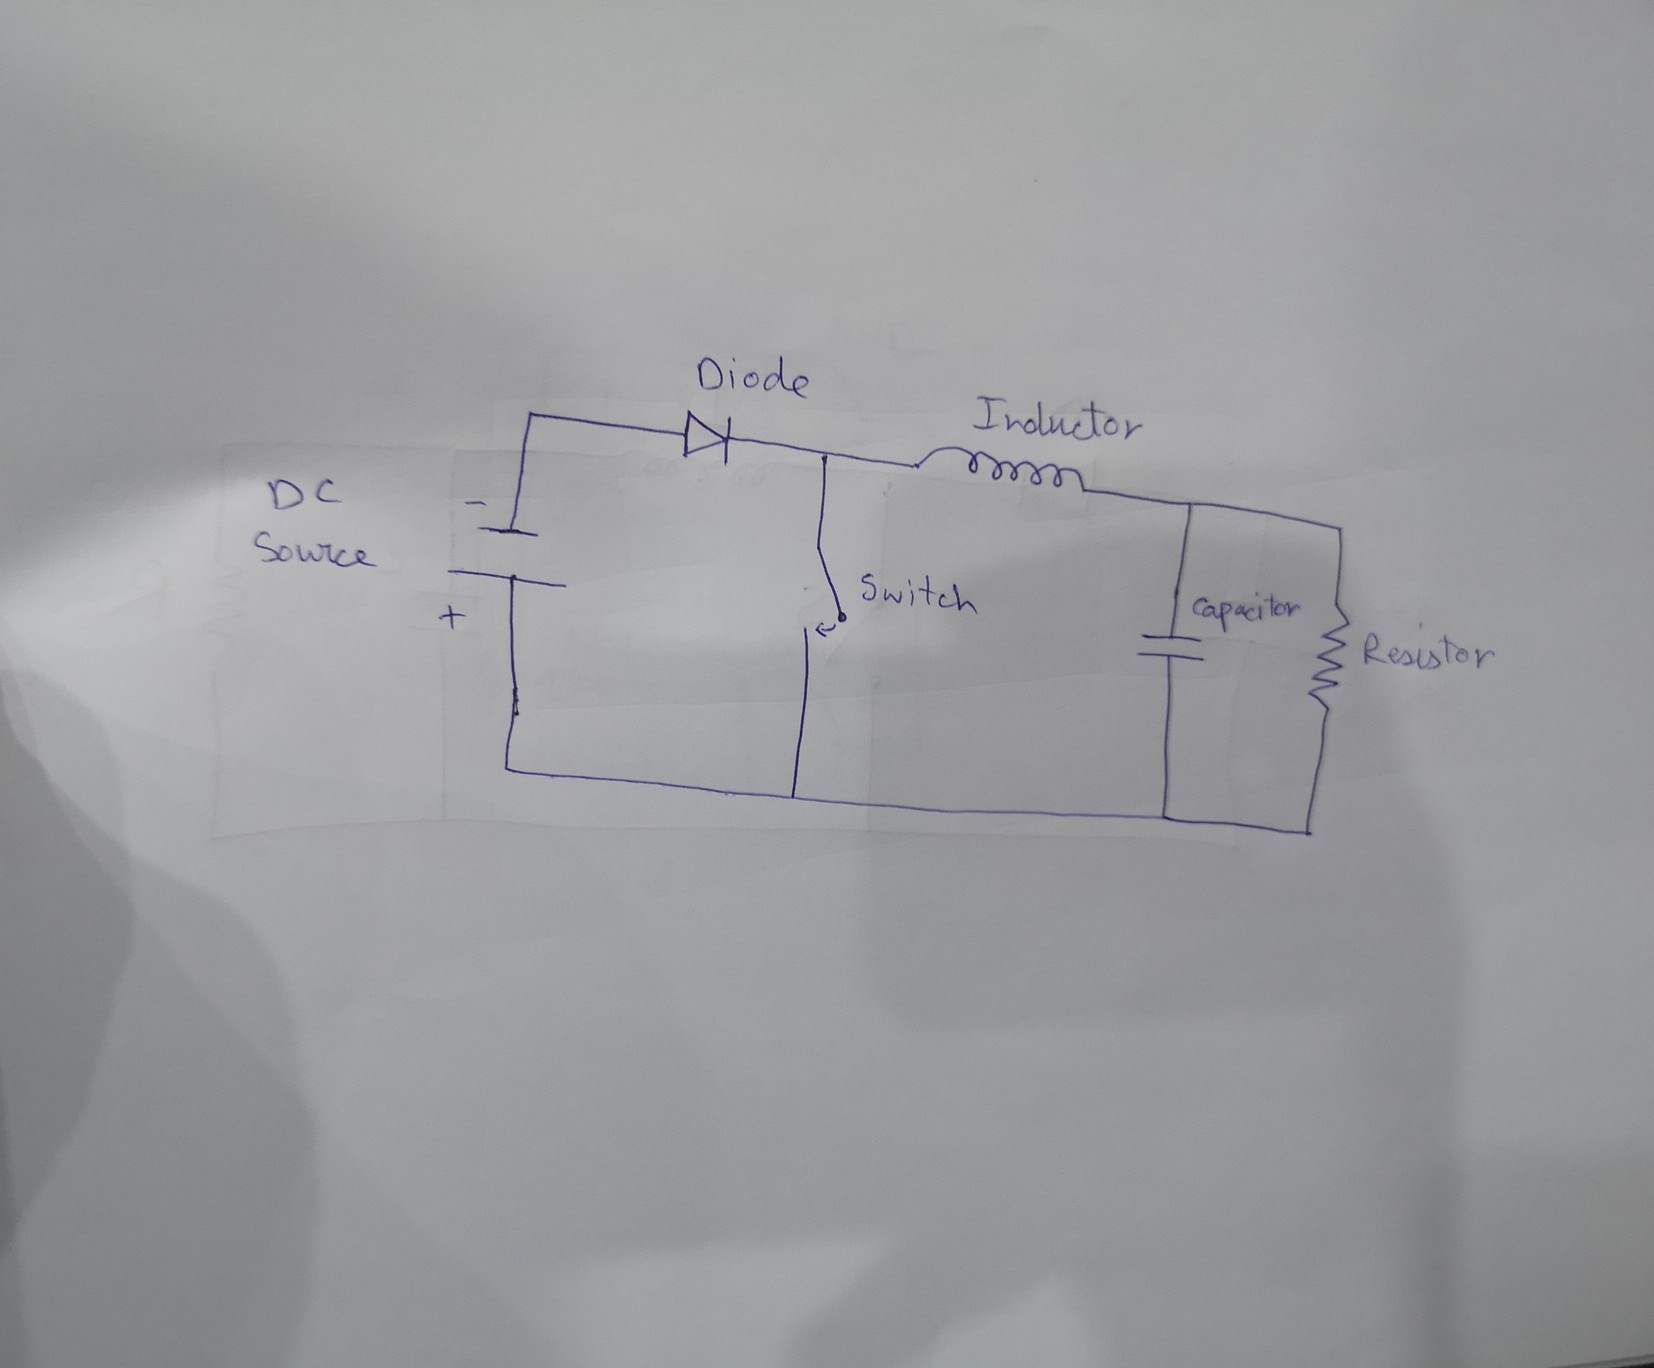capacitor.unpolarized: (1132, 626, 1210, 666)
diode: (675, 405, 738, 466)
inductor: (908, 442, 1092, 501)
junction: (514, 401, 550, 433), (806, 444, 839, 470), (495, 755, 521, 780), (1153, 806, 1177, 830), (1297, 821, 1317, 843), (782, 786, 801, 808), (1181, 494, 1199, 514), (1331, 521, 1349, 538)
resistor: (1302, 596, 1356, 716)
switch: (795, 543, 854, 641)
text: (971, 391, 1144, 445), (1361, 615, 1502, 676), (857, 569, 979, 615), (690, 353, 812, 400), (246, 527, 379, 570), (1188, 592, 1304, 632), (261, 472, 352, 515)
voltage.dc: (434, 494, 574, 636)
